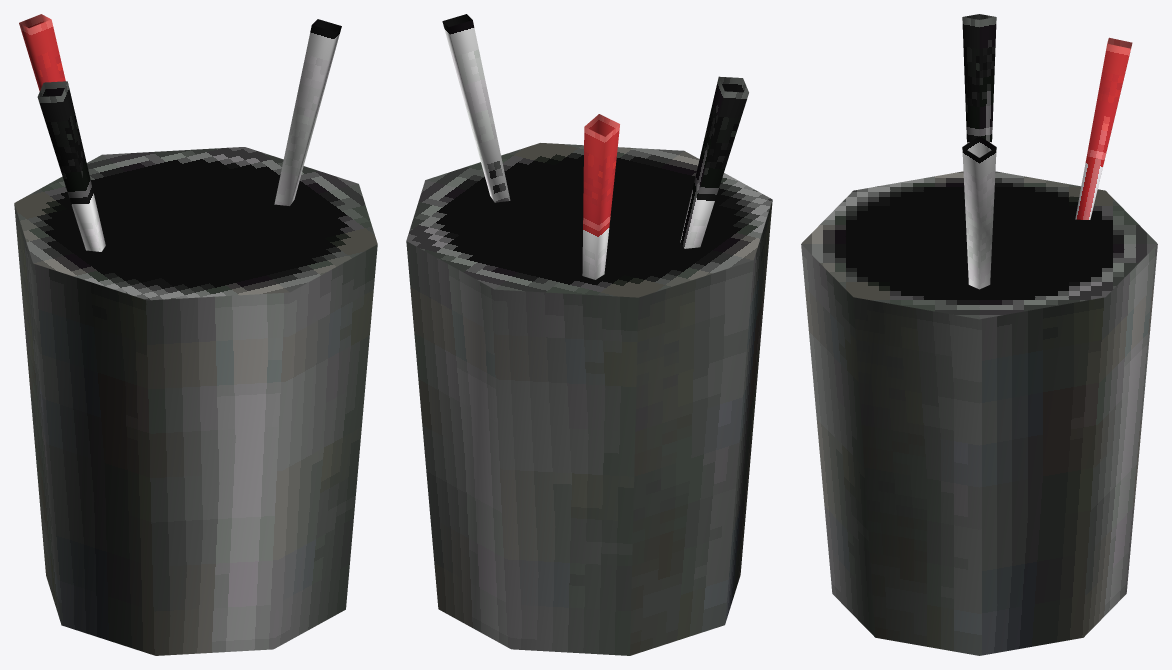
File: pens_in_cup.fbx
3 views of the same model, side by side, from view 1: azimuth 30°, elevation 25°; view 2: azimuth 150°, elevation 25°; view 3: azimuth 270°, elevation 25° (orthographic). The views are drawn at different scales.
Visible parts, largest first — view 1: mesh_1, mesh_0, mesh_2; view 2: mesh_1, mesh_0, mesh_2; view 3: mesh_1, mesh_0, mesh_2.
Part boxes in pixels (x1=…): mesh_1: x1=14, y1=147, x2=377, y2=655; mesh_0: x1=37, y1=19, x2=341, y2=251; mesh_2: x1=19, y1=14, x2=65, y2=91; mesh_1: x1=406, y1=143, x2=772, y2=655; mesh_0: x1=442, y1=14, x2=748, y2=248; mesh_2: x1=582, y1=114, x2=619, y2=279; mesh_1: x1=801, y1=171, x2=1157, y2=655; mesh_0: x1=962, y1=14, x2=996, y2=289; mesh_2: x1=1075, y1=37, x2=1132, y2=219.
Bounding box in the file's own units: 10 × 15.91 × 10.
3 materials, 3 textured.
